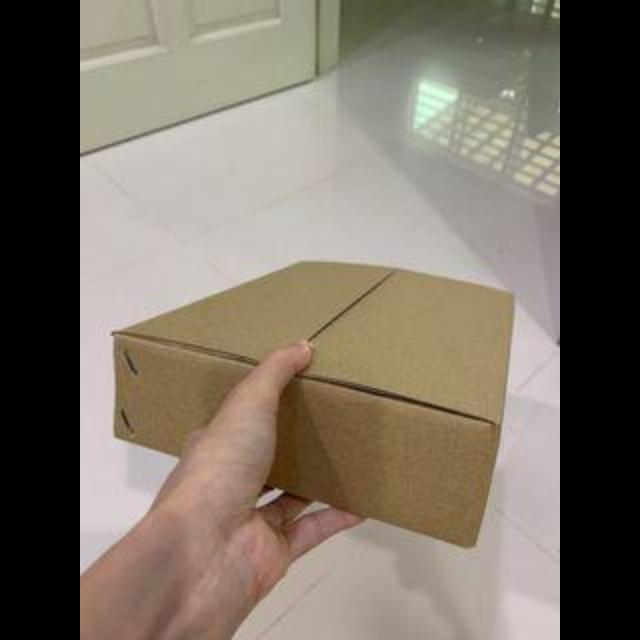papelão: (110, 254, 518, 550)
